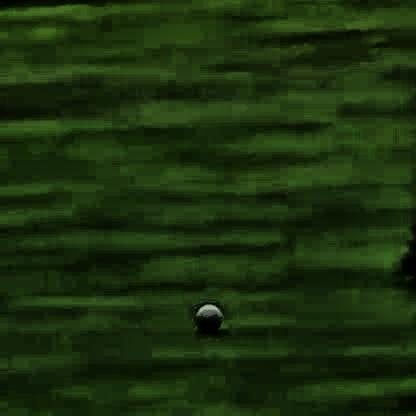golfball: (195, 299, 219, 327)
